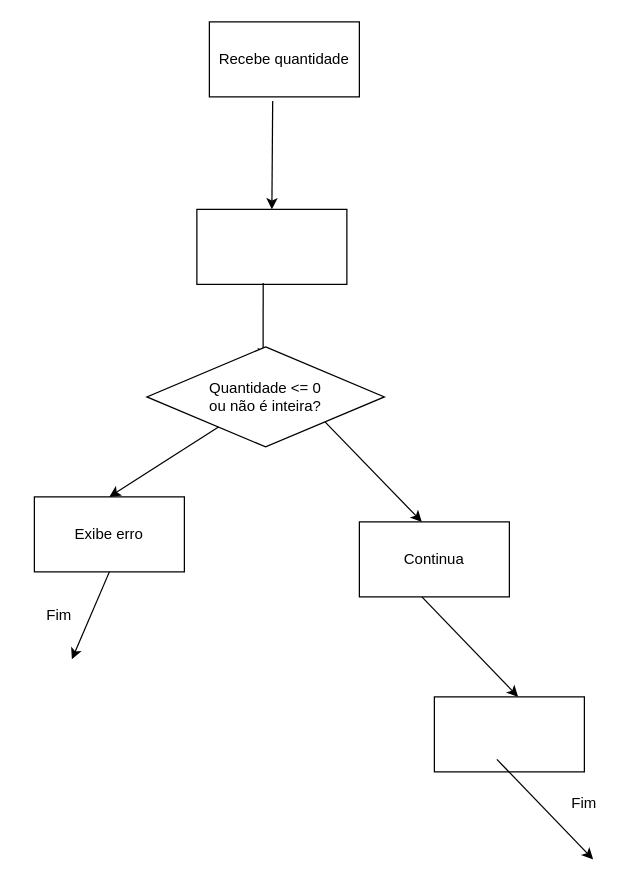
This 643x891 diagram has some shape labels left out. Here are the shapes that lost their labels. From the top down, the centre of each, then its label:
At pixel 271 246: "Converte pra numero".
At pixel 508 734: "analisa pedido".
